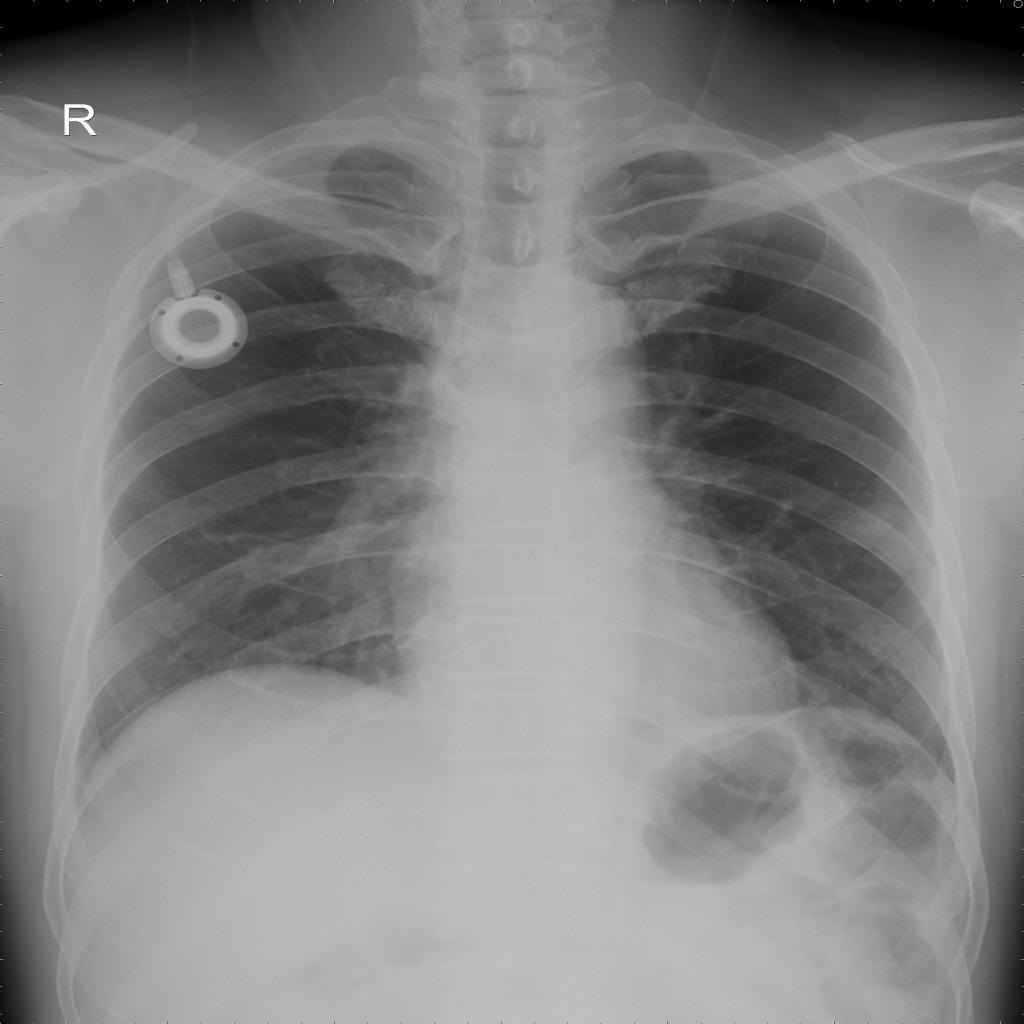Nodule: (834, 500, 930, 566)
